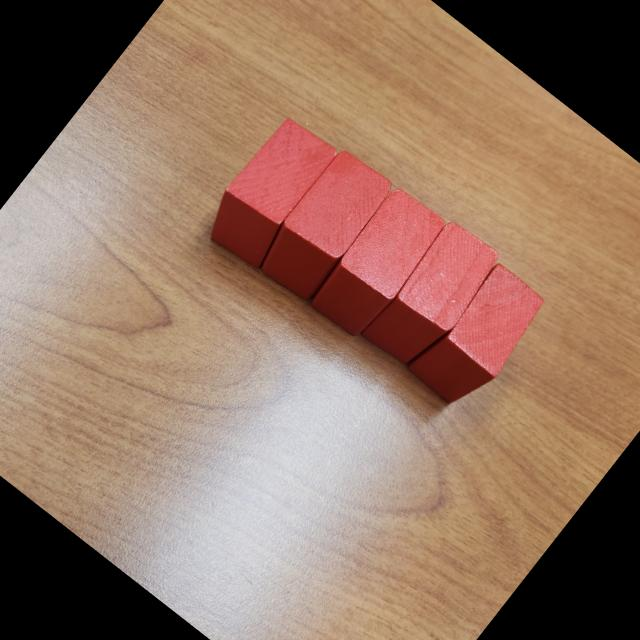red: (192, 105, 350, 276), (402, 253, 555, 418), (357, 215, 508, 380), (302, 180, 451, 344), (251, 144, 398, 306)
